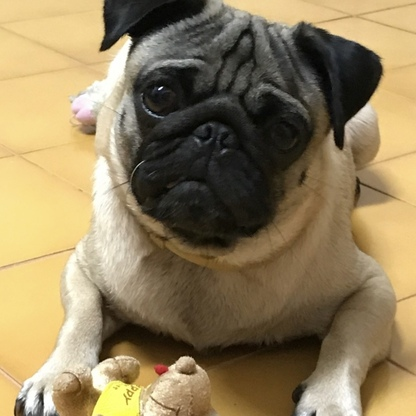Pug: (9, 1, 404, 416)
